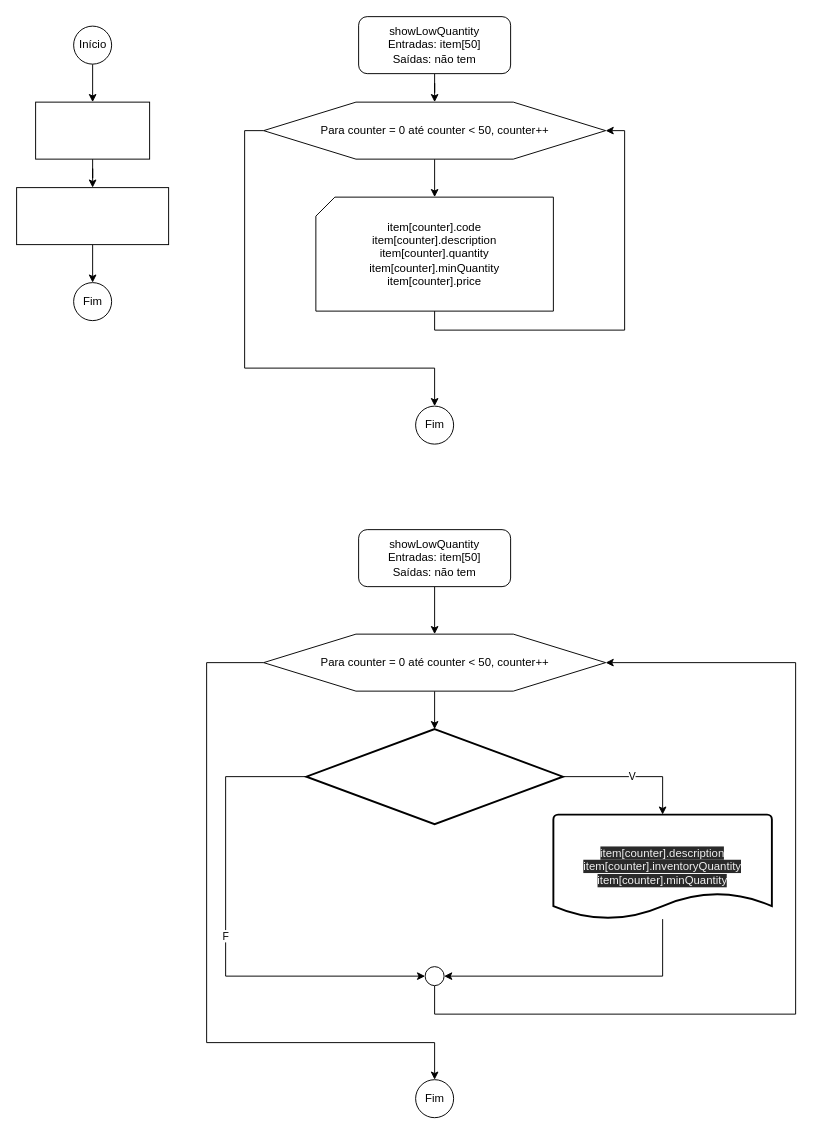
The diagram is 820 pixels wide and 1134 high, and some of its shapes have lost their labels. The shapes that lost their labels are listed below. From the top down, each one's centre as x and y in pixels, then its label:
(x=92, y=130): register(item)
(x=92, y=216): showLowQuantity(item)
(x=434, y=776): (item[counter].quantity < item[counter].minQuantity)
